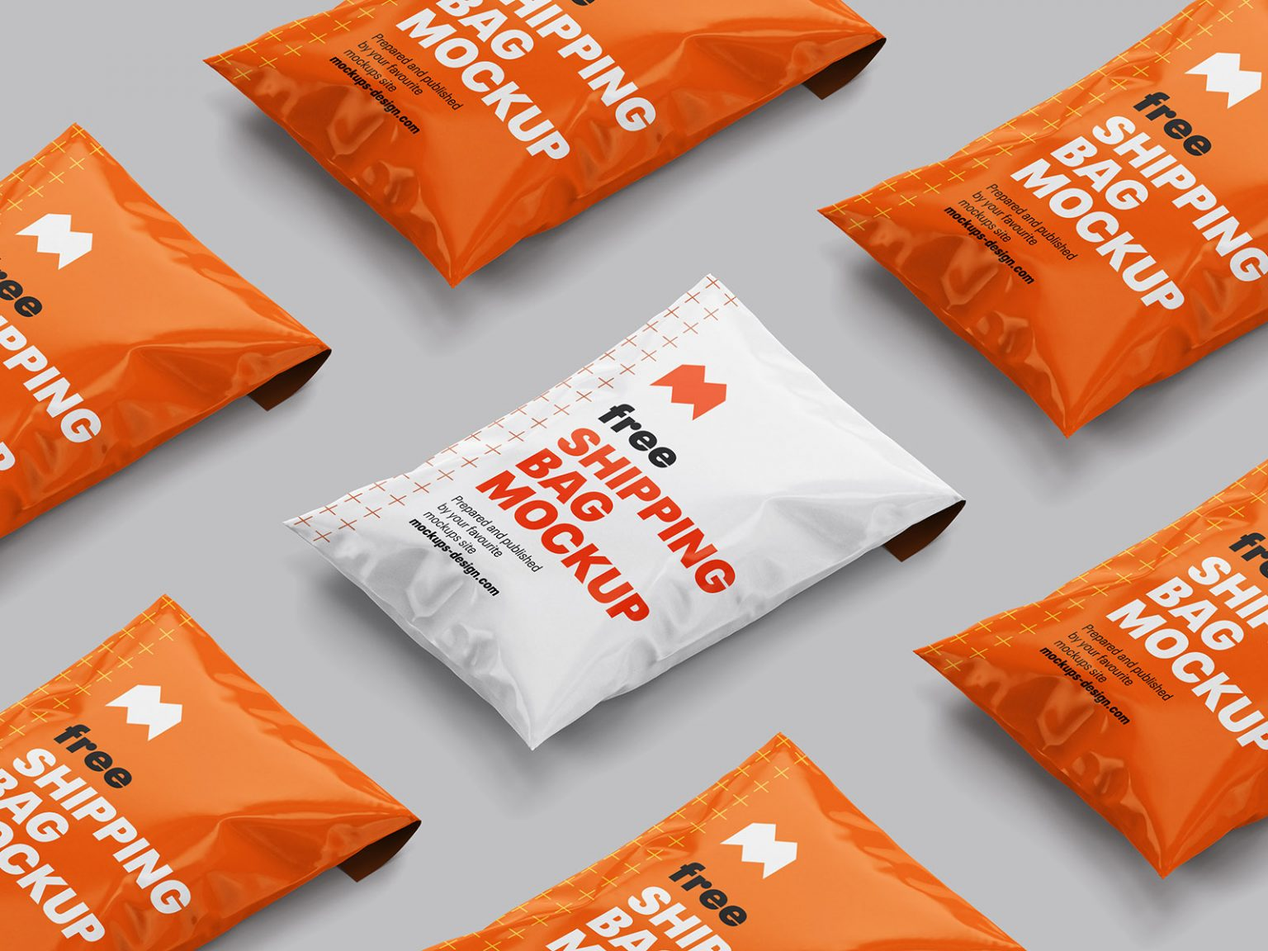塑料袋: (289, 277, 963, 747), (821, 0, 1268, 434), (206, 0, 881, 284), (0, 596, 419, 951), (916, 461, 1268, 875), (0, 125, 327, 535), (437, 734, 1020, 951)
